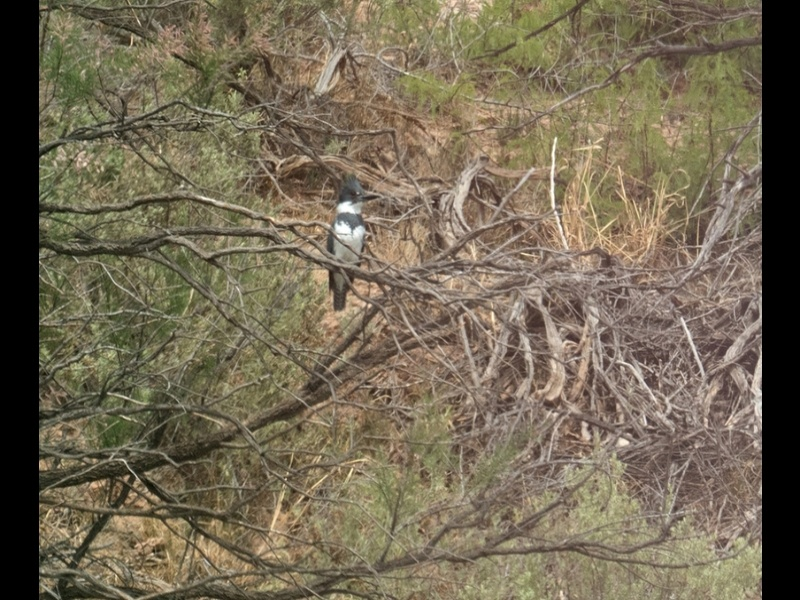kingfisher: (322, 172, 379, 312)
